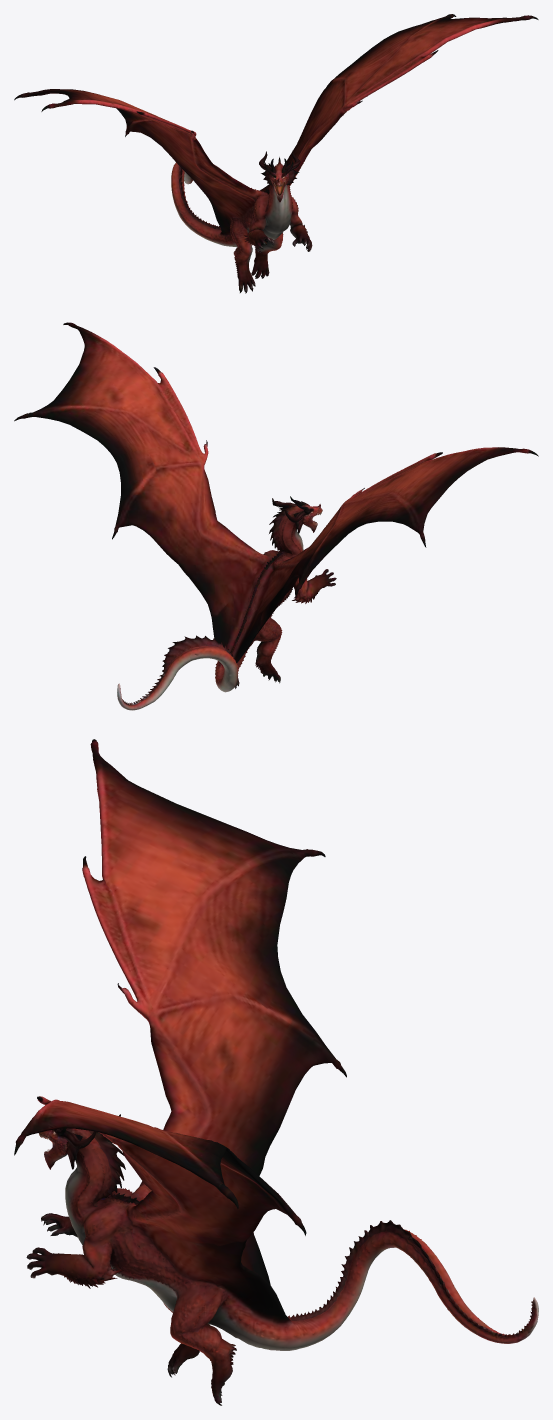
File: MZ4250 - Ancient Red Dragon 2025.glb
The picture shows the model from 3 angles, top to bottom: view 1: azimuth 30°, elevation 25°; view 2: azimuth 150°, elevation 25°; view 3: azimuth 270°, elevation 25°; orthographic projection. The views are drawn at different scales.
Parts seen in each view (by area): view 1: ORGANIC BASE SPHERE.001; view 2: ORGANIC BASE SPHERE.001; view 3: ORGANIC BASE SPHERE.001.
Boxes of the visible parts, left/top/right/bottom form: ORGANIC BASE SPHERE.001: left=14, top=14, right=538, bottom=293; ORGANIC BASE SPHERE.001: left=14, top=322, right=538, bottom=710; ORGANIC BASE SPHERE.001: left=14, top=739, right=538, bottom=1405.
Size of the model in its own units: 1434 by 754 by 794.
Materials: 1 (1 with a texture image).
